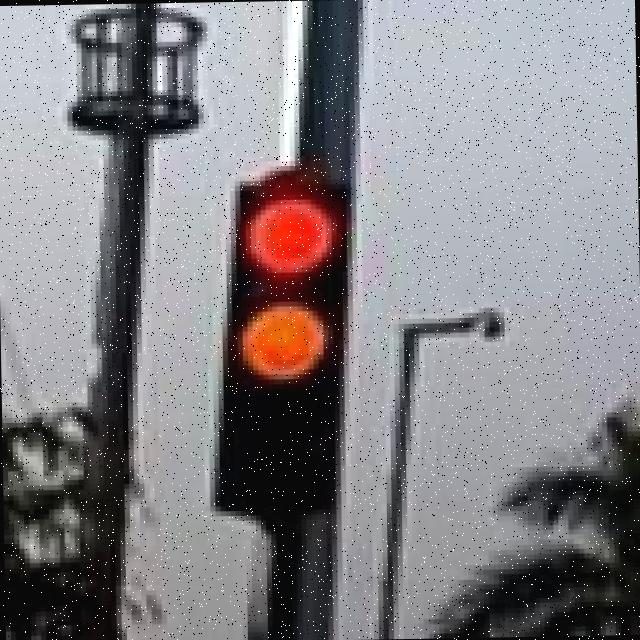Zolte swiatlo: (205, 173, 362, 516)
